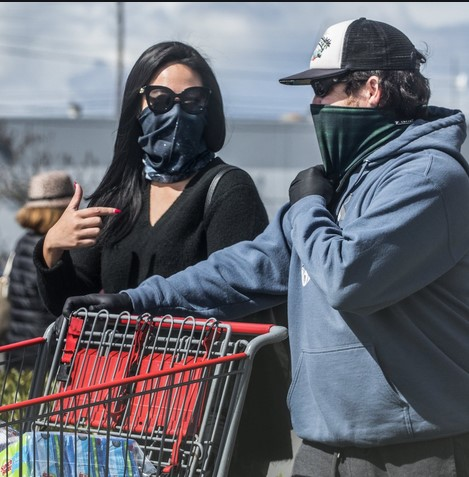face_with_mask: (302, 39, 406, 165), (130, 46, 217, 165)
